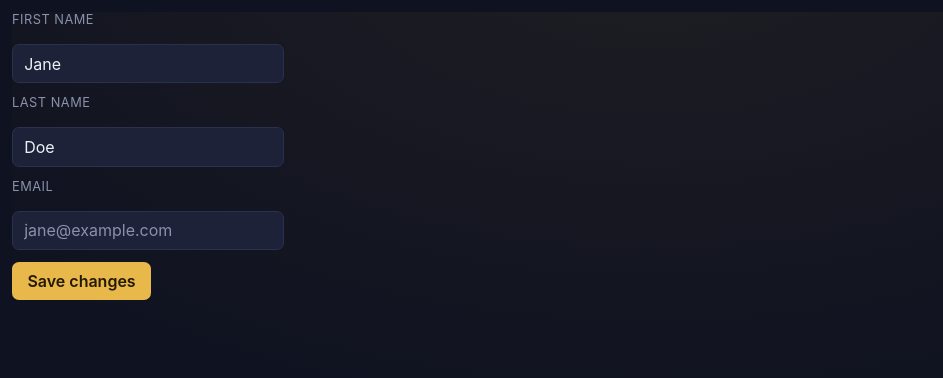
Scenario: EditUserForm › surfaces the caught error message
Click the button "Save changes" at point(82, 281), box [12, 262, 151, 300]
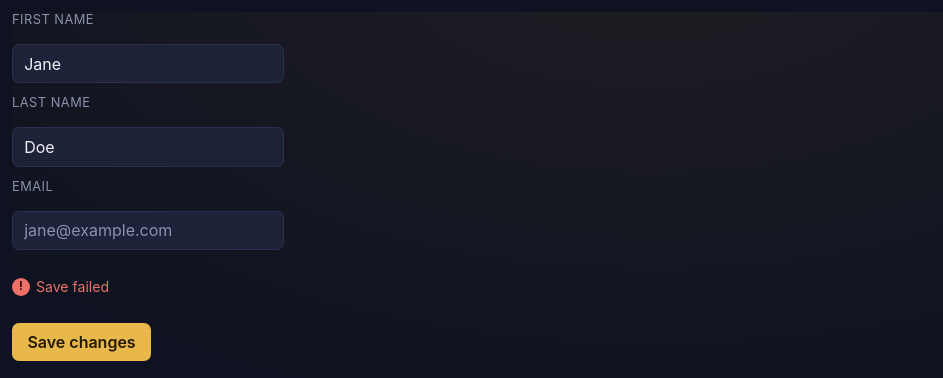
expect the text "Save failed" is shown: met, box [12, 276, 109, 297]
